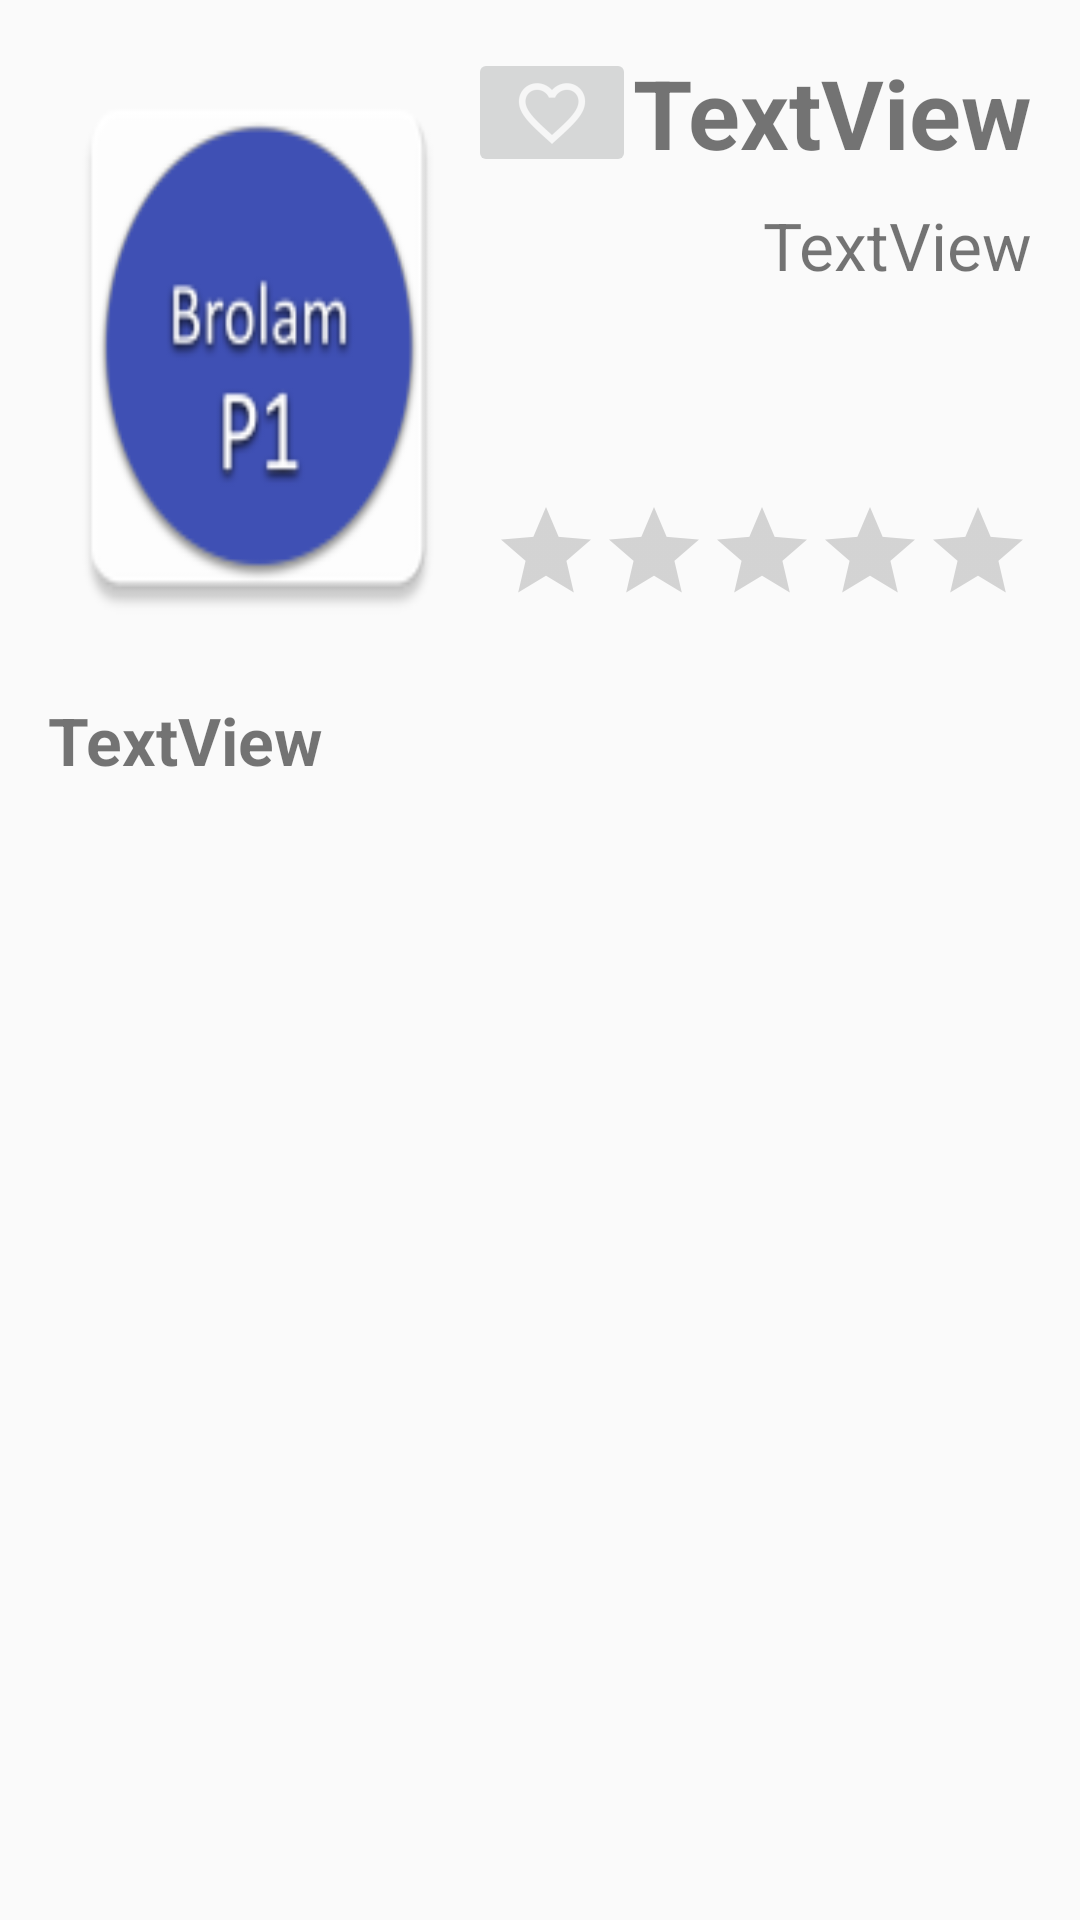

Icon click points for this 1080w x 1920h phone screenshot, format [x,y]:
favorite no: [552,112]
